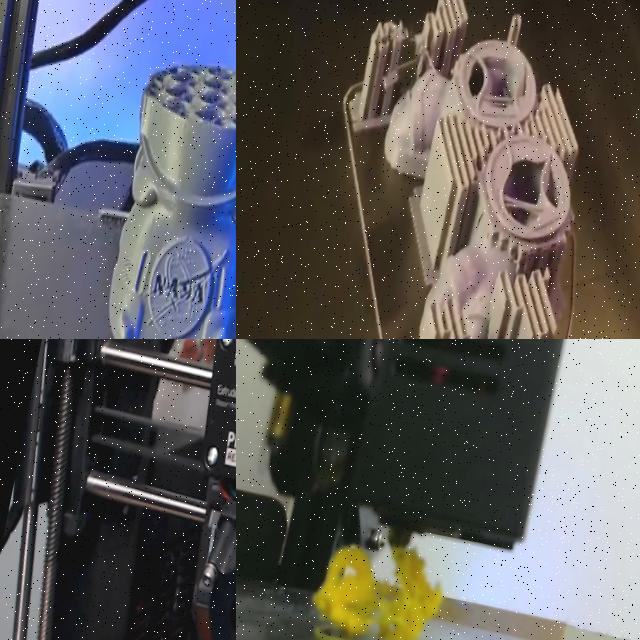spaghetti: (298, 529, 462, 640)
